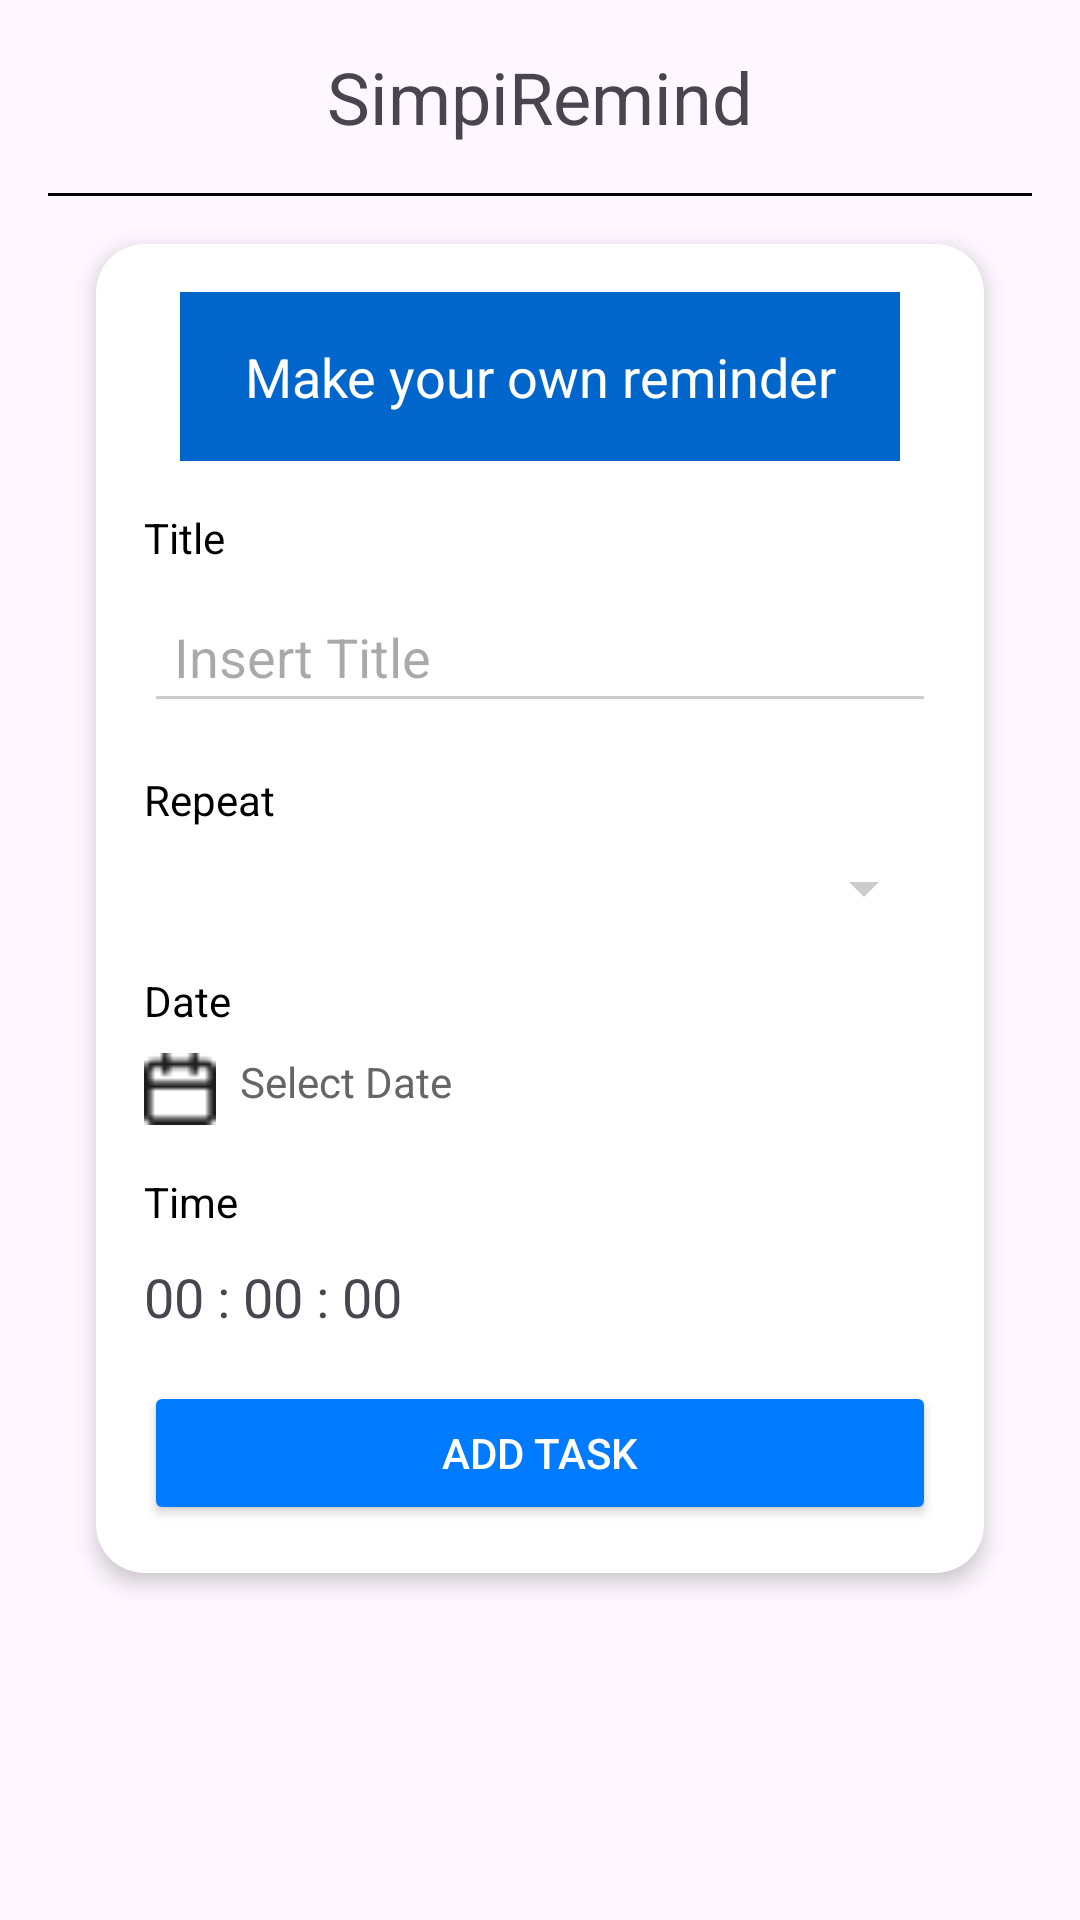

Named icons in this screenshot (1080 x 1920) and their bounding boxes, (x1, y1, x2, y2):
Calendar Icon: (144, 1053, 216, 1125)
